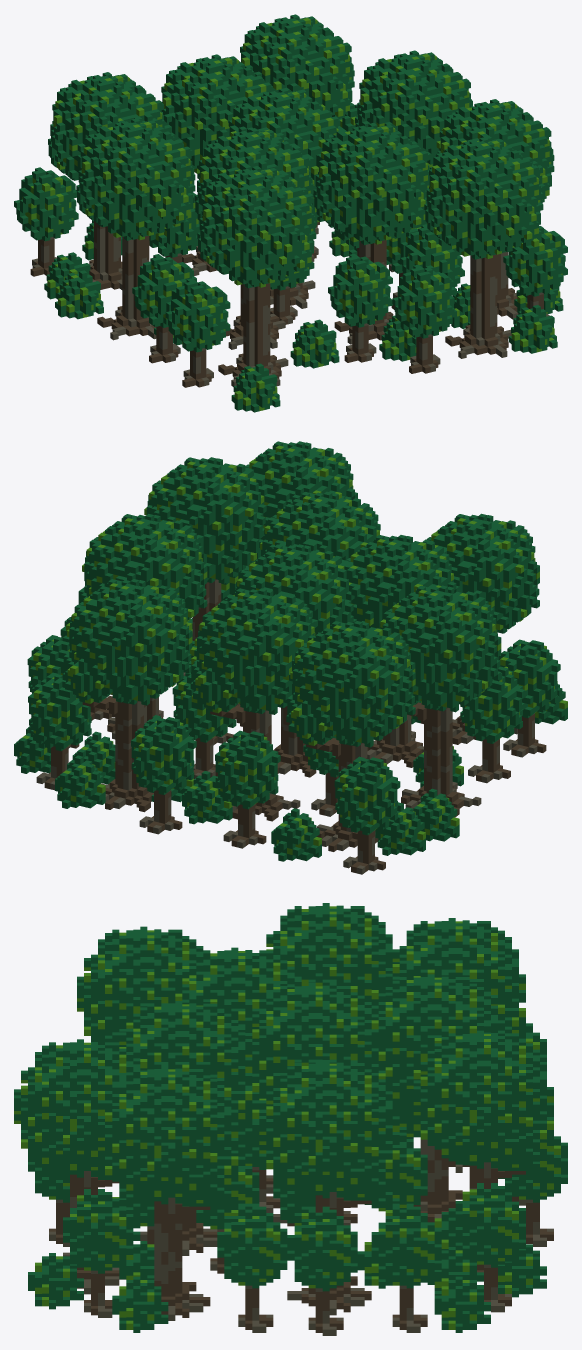
File: trees_3_overtile.obj
3 views of the same model, one above another, from view 1: azimuth 30°, elevation 25°; view 2: azimuth 150°, elevation 25°; view 3: azimuth 270°, elevation 25° (orthographic). The views are drawn at different scales.
Bounding box in the file's own units: 7.8 × 3.6 × 7.9.
1 material, 1 textured.
